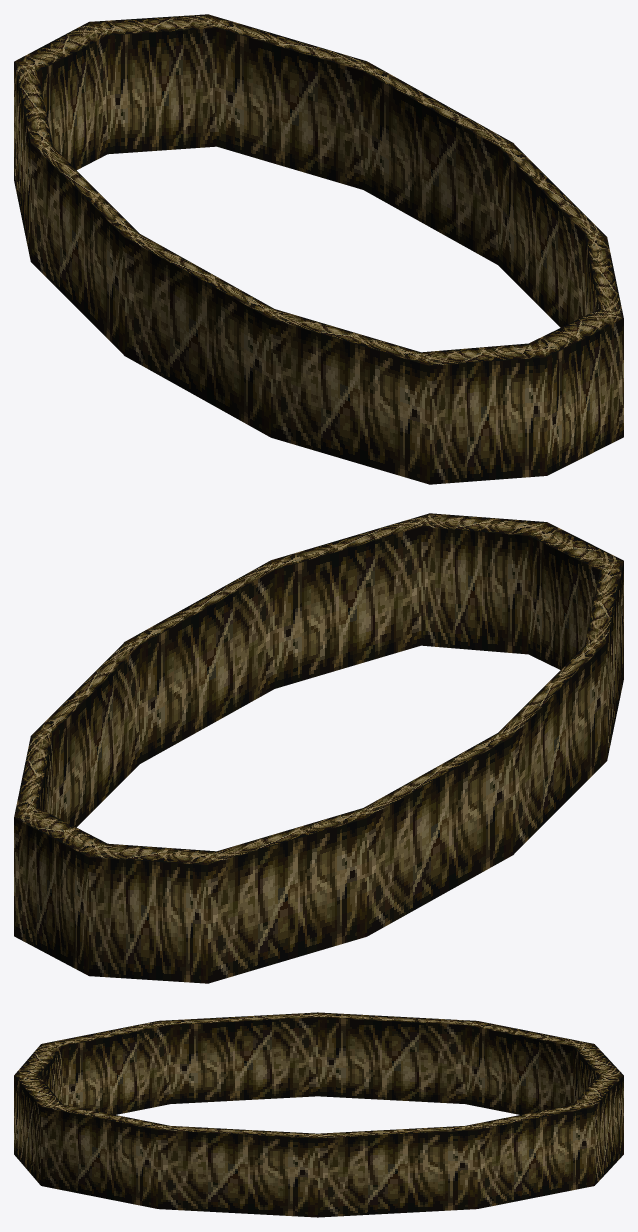
Rendered from GEAR_BELT.fbx.
The picture shows the model from 3 angles, top to bottom: view 1: azimuth 30°, elevation 25°; view 2: azimuth 150°, elevation 25°; view 3: azimuth 270°, elevation 25°; orthographic projection. The views are drawn at different scales.
Visible parts, largest first — view 1: GEAR_BELT; view 2: GEAR_BELT; view 3: GEAR_BELT.
Boxes of the visible parts, left/top/right/bottom form: GEAR_BELT: left=14, top=14, right=623, bottom=484; GEAR_BELT: left=14, top=513, right=623, bottom=983; GEAR_BELT: left=14, top=1012, right=623, bottom=1217.
Bounding box in the file's own units: 7705 × 2249 × 15748.
1 material, 1 textured.
